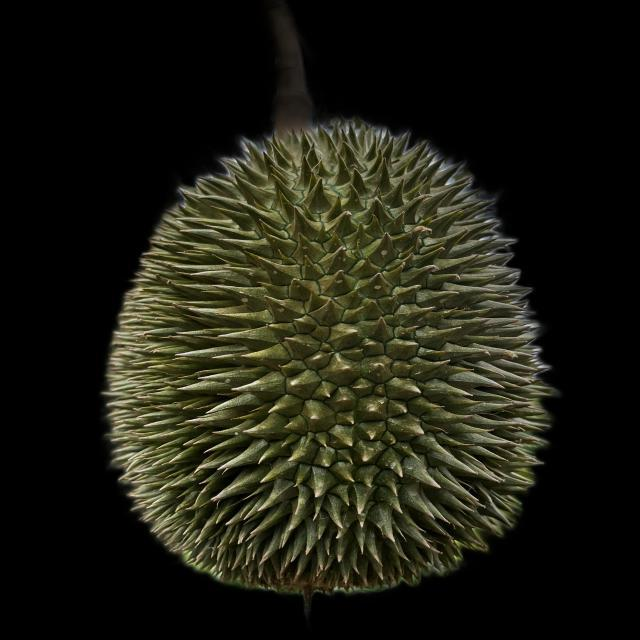immature: (98, 113, 553, 597)
